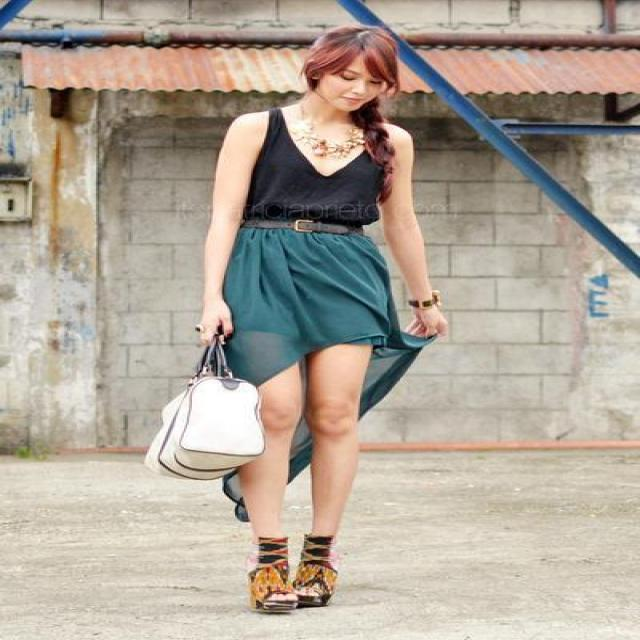bag: (146, 324, 262, 498)
shirt: (240, 115, 392, 232)
shoe: (246, 536, 336, 616)
skirt: (221, 219, 440, 482)
